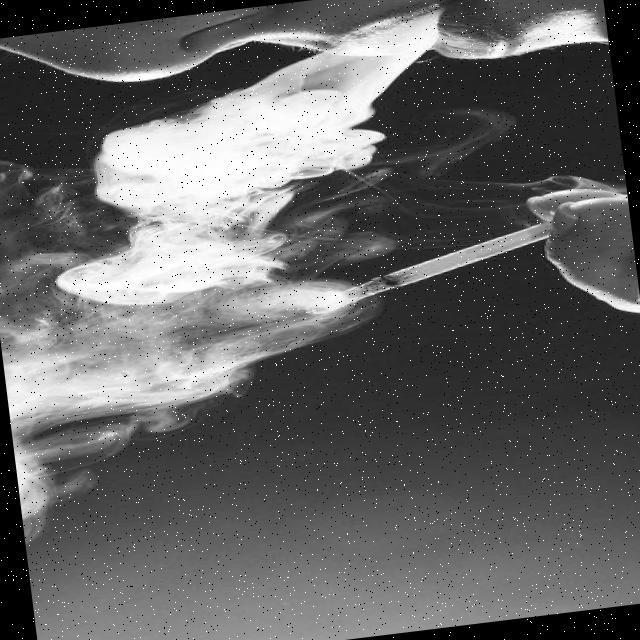cigarette: (285, 218, 561, 316)
